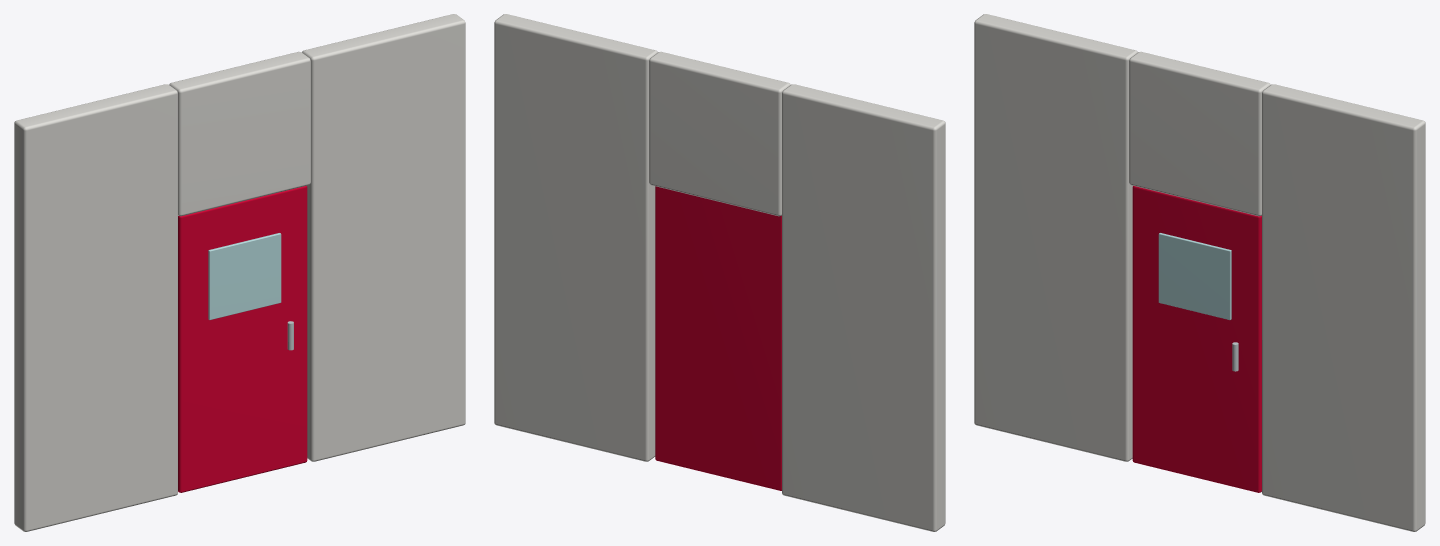
Rendered from Wall_Door_4m.fbx.
3 views of the same model, side by side, from view 1: azimuth 30°, elevation 25°; view 2: azimuth 150°, elevation 25°; view 3: azimuth 330°, elevation 25° (orthographic).
Visible parts, largest first — view 1: Wall_Door_4m_White, Wall_Door_4m_Red, Wall_Door_4m_Glass; view 2: Wall_Door_4m_White, Wall_Door_4m_Red; view 3: Wall_Door_4m_White, Wall_Door_4m_Red, Wall_Door_4m_Glass.
Part boxes in pixels (x1,y1,x2,y2): Wall_Door_4m_White: (14,14,465,531); Wall_Door_4m_Red: (178,186,307,492); Wall_Door_4m_Glass: (208,233,281,319); Wall_Door_4m_White: (494,14,945,531); Wall_Door_4m_Red: (655,186,781,490); Wall_Door_4m_White: (974,14,1425,531); Wall_Door_4m_Red: (1132,186,1261,492); Wall_Door_4m_Glass: (1158,233,1231,319).
Size of the model in its own units: 400 by 350 by 23.5.
